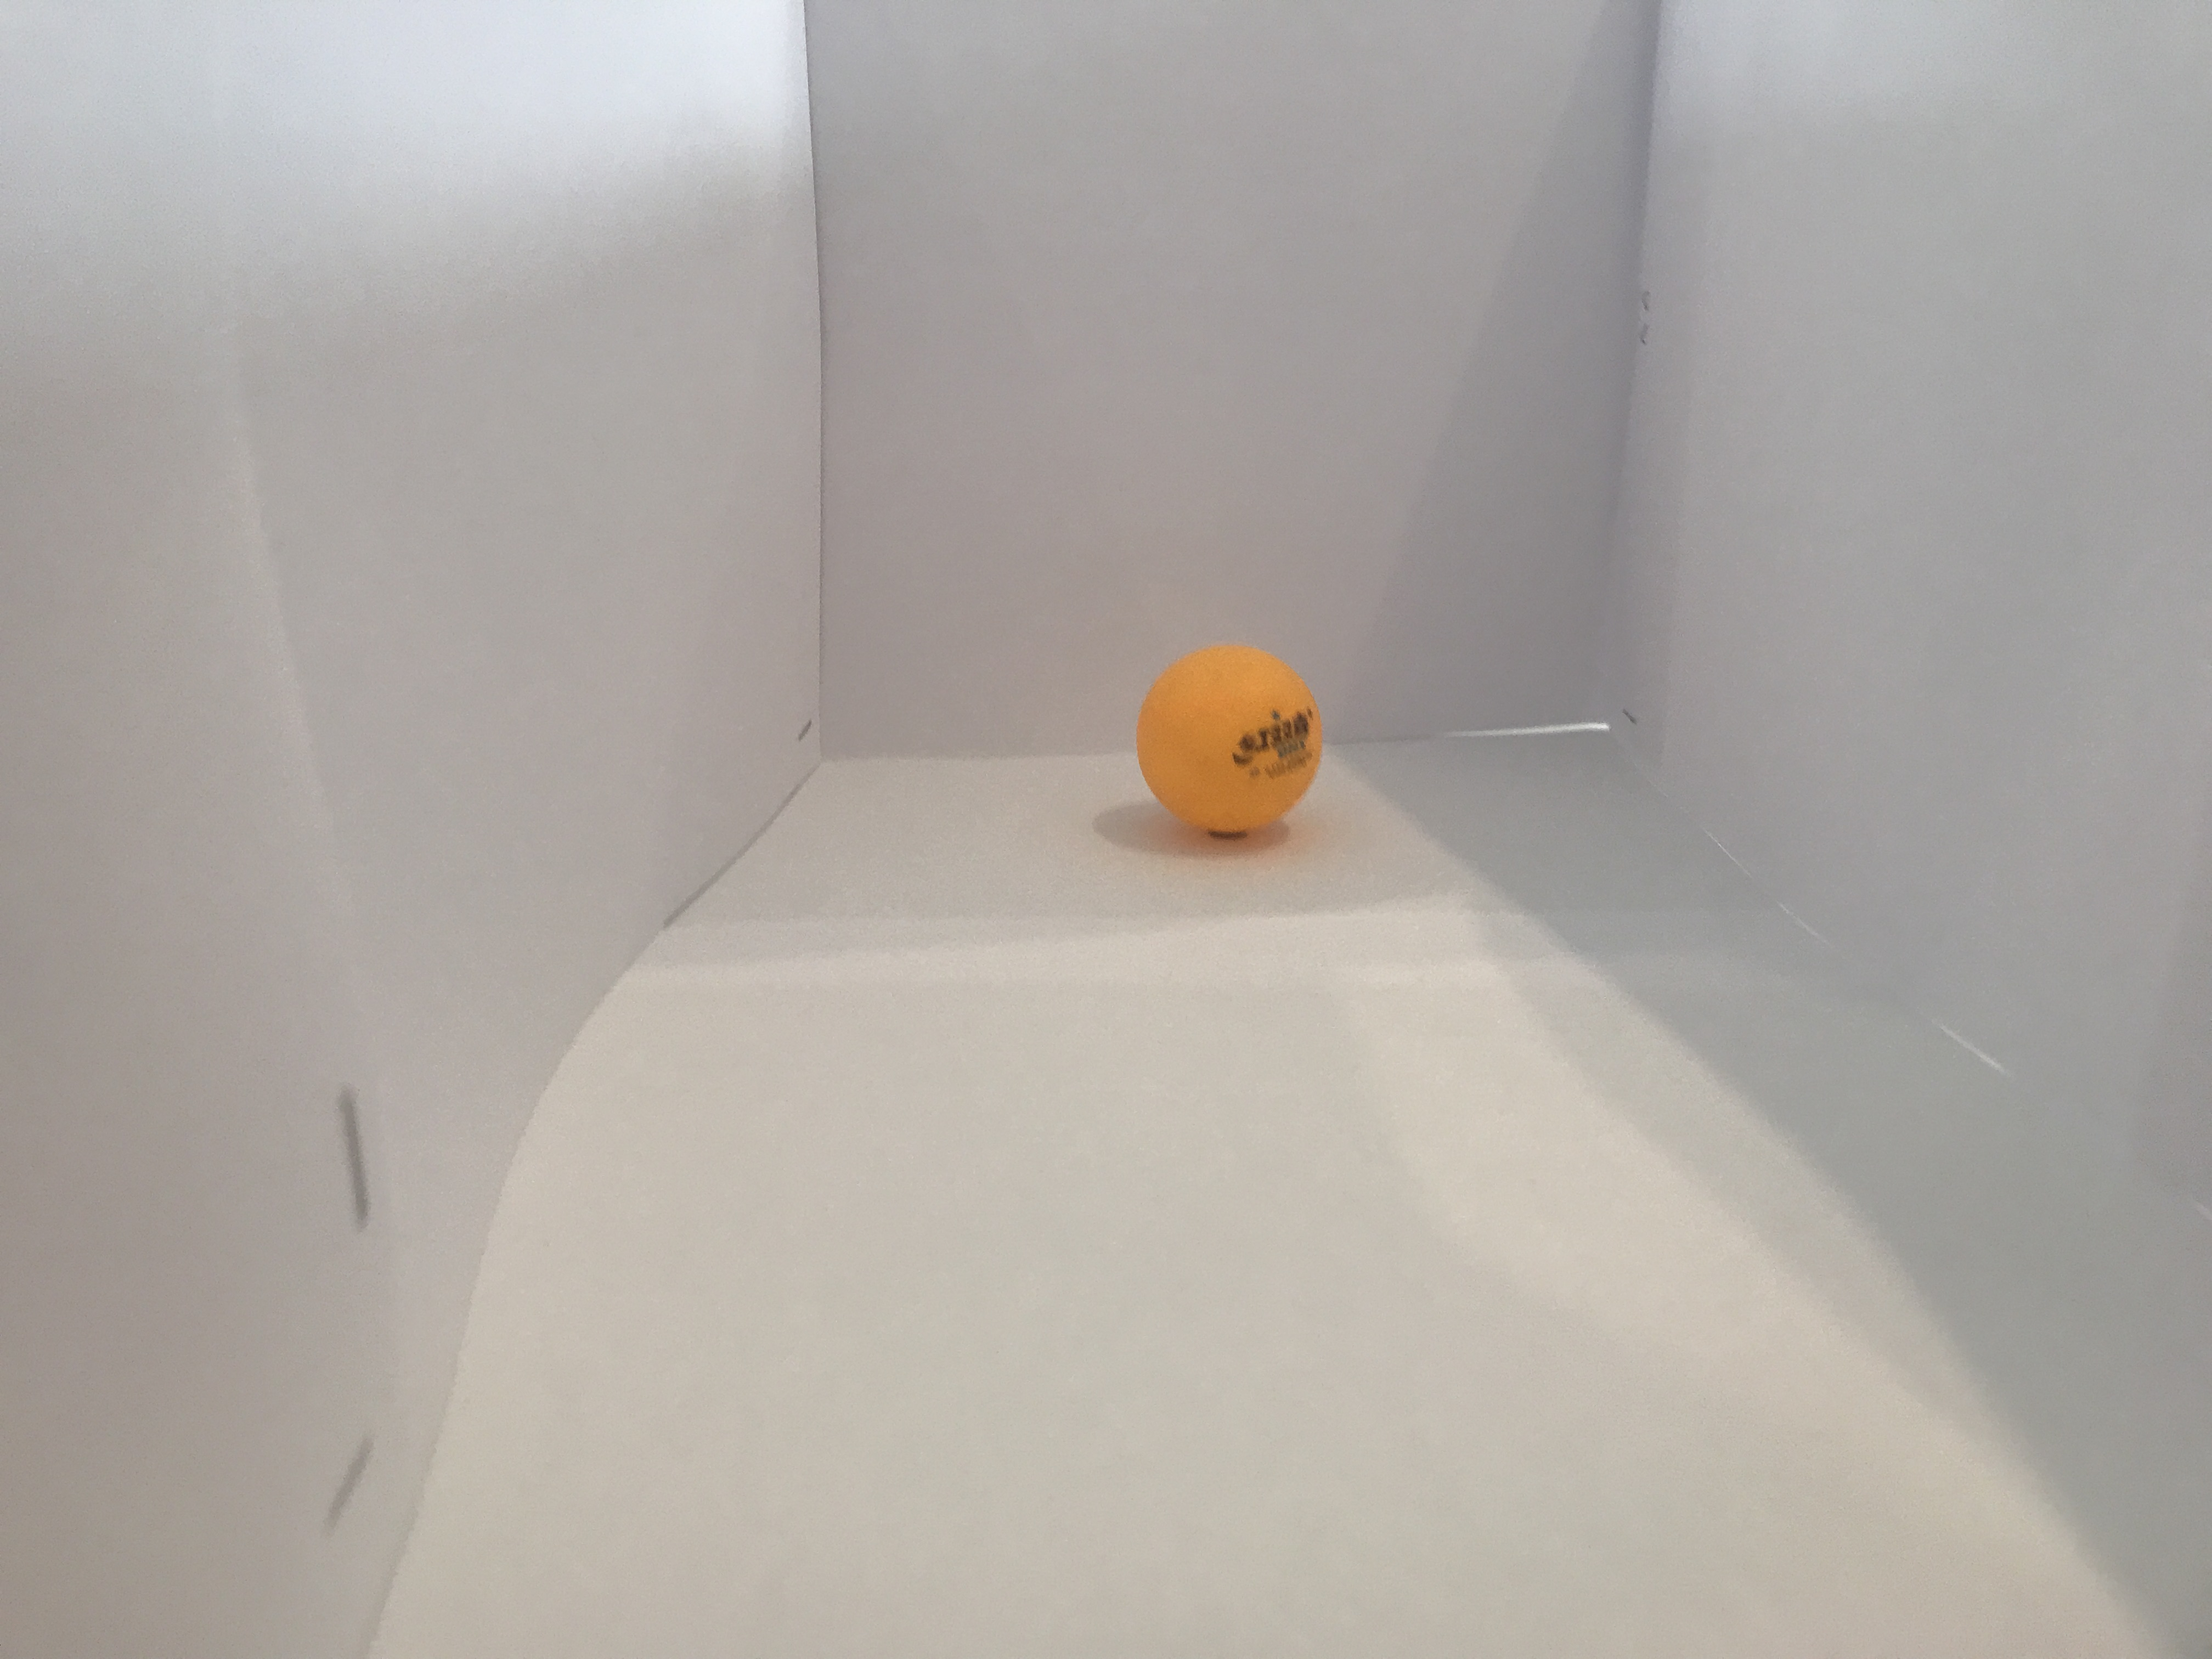pp: (1136, 638, 1329, 835)
